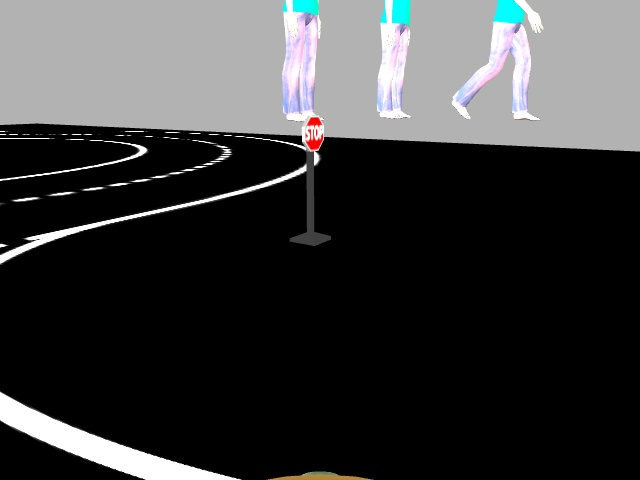Stop: (299, 115, 324, 150)
